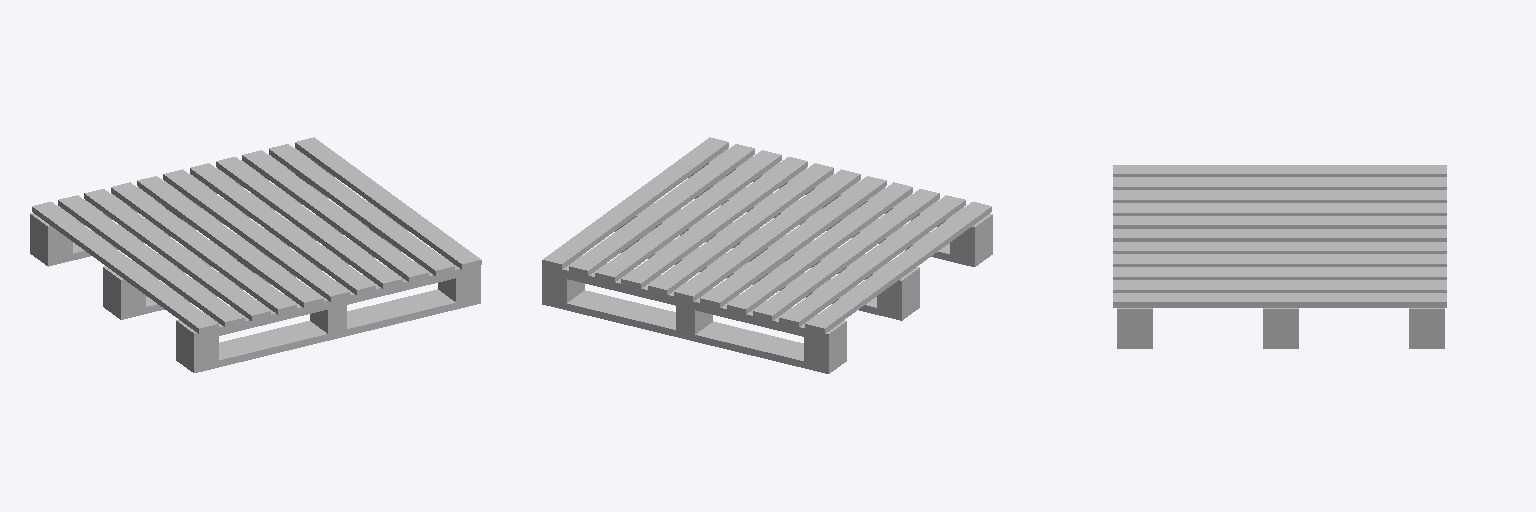
The model's file is Pallet.obj.
The picture shows the model from 3 angles: view 1: azimuth 30°, elevation 25°; view 2: azimuth 150°, elevation 25°; view 3: azimuth 270°, elevation 25°; orthographic projection.
Parts seen in each view (by area): view 1: Plane_Plane.001, Cube_Cube.004; view 2: Plane_Plane.001, Cube_Cube.004; view 3: Plane_Plane.001, Cube_Cube.004.
Part boxes in pixels (x1,y1,x2,y2): Plane_Plane.001: (32,137,481,333); Cube_Cube.004: (30,148,480,372); Plane_Plane.001: (542,137,991,333); Cube_Cube.004: (542,149,992,373); Plane_Plane.001: (1113,165,1446,307); Cube_Cube.004: (1117,308,1444,348).
Bounding box in the file's own units: 1.59 × 0.2417 × 1.6.